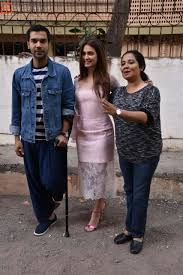Bad: (11, 25, 111, 239), (73, 38, 162, 255)
